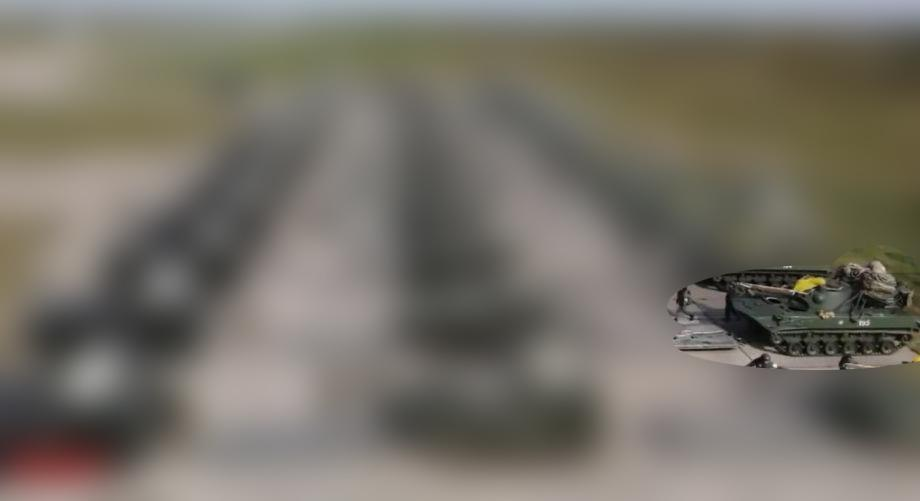armored_car: (727, 264, 920, 358)
